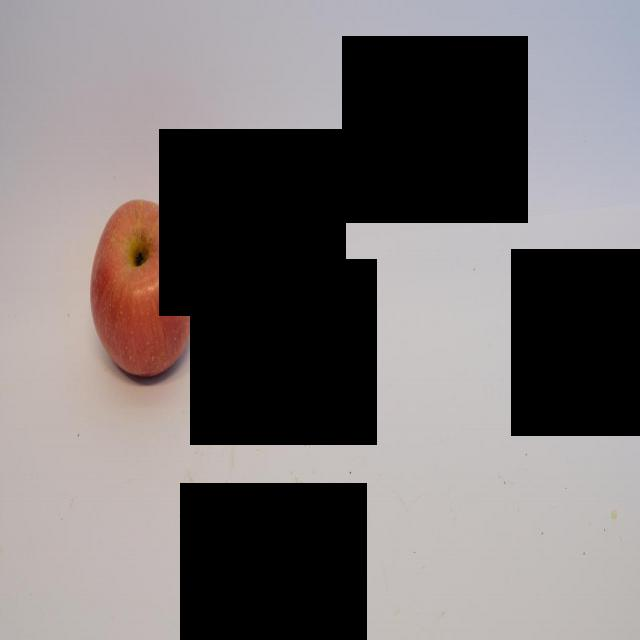apple: (89, 199, 198, 379)
